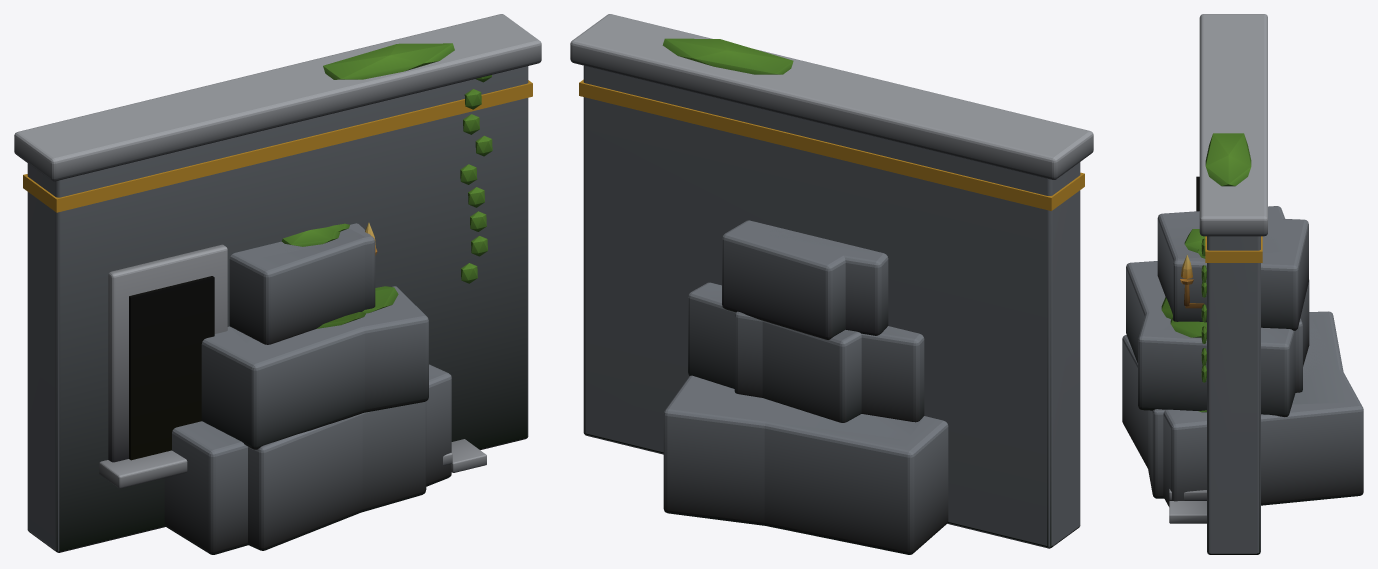
File: temple-s3-B25Idynf.glb
3 views of the same model, side by side, from view 1: azimuth 30°, elevation 25°; view 2: azimuth 150°, elevation 25°; view 3: azimuth 270°, elevation 25° (orthographic). The views are drawn at different scales.
Parts seen in each view (by area): view 1: sc_wallbase, sc_wall, sc_ruin_1, sc_ruin_0; view 2: sc_wall, sc_ruin_0, sc_ruin_1, sc_wallbase; view 3: sc_wall, sc_ruin_1, sc_ruin_0, sc_wallbase.
Part boxes in pixels (box(x1,y1,x2,y2)): sc_wallbase: box(28, 66, 527, 552); sc_wall: box(14, 14, 541, 552); sc_ruin_1: box(201, 227, 451, 550); sc_ruin_0: box(164, 223, 428, 554); sc_wall: box(570, 14, 1093, 547); sc_ruin_0: box(688, 220, 948, 554); sc_ruin_1: box(663, 227, 924, 525); sc_wallbase: box(584, 66, 1080, 548); sc_wall: box(1169, 14, 1267, 554); sc_ruin_1: box(1122, 206, 1363, 506); sc_ruin_0: box(1138, 218, 1345, 498); sc_wallbase: box(1207, 236, 1260, 554).
Size of the model in its own units: 27 by 21.35 by 13.43.
